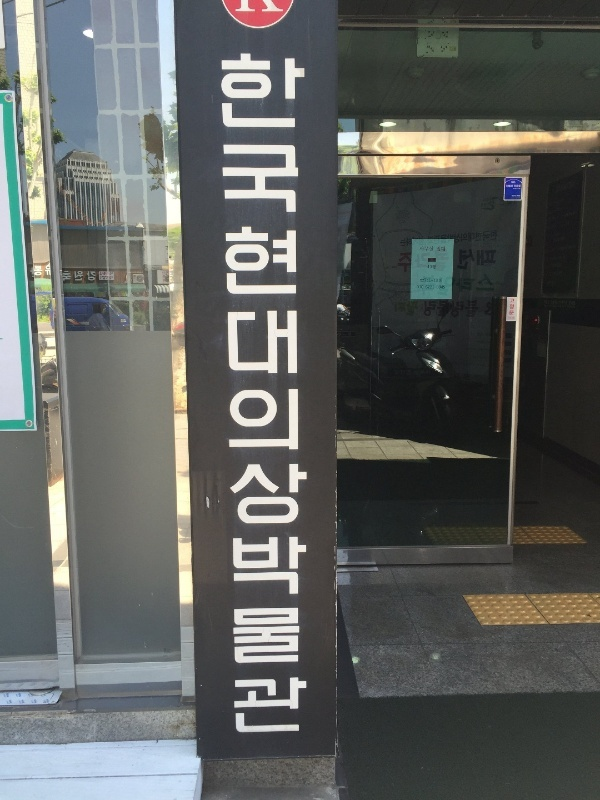text: (225, 49, 240, 744), (241, 49, 256, 744), (257, 49, 272, 744), (273, 49, 288, 744), (289, 49, 304, 744), (219, 49, 224, 744), (305, 49, 309, 744), (481, 248, 497, 272), (465, 248, 480, 272), (433, 299, 449, 318), (465, 273, 480, 293), (401, 251, 414, 274), (401, 299, 416, 318), (417, 299, 432, 318), (401, 229, 416, 248), (417, 229, 432, 248), (433, 229, 448, 248), (449, 229, 464, 248), (465, 229, 480, 248), (481, 229, 496, 248), (481, 273, 495, 293), (465, 298, 479, 318), (33, 262, 48, 279), (453, 298, 464, 318), (81, 271, 97, 283), (65, 271, 80, 283), (458, 248, 464, 272), (457, 273, 464, 293), (513, 184, 521, 200), (394, 299, 400, 318), (506, 184, 512, 200), (420, 246, 432, 253), (437, 246, 448, 253), (417, 285, 432, 290), (433, 285, 446, 290), (100, 272, 112, 277), (513, 298, 516, 317), (101, 276, 112, 281), (49, 262, 52, 279), (433, 278, 443, 283), (398, 251, 400, 274), (510, 298, 512, 317), (425, 278, 432, 283), (62, 271, 64, 283), (428, 265, 432, 270), (433, 265, 437, 270), (497, 229, 498, 248), (31, 262, 32, 279), (433, 246, 434, 253), (113, 272, 114, 277), (113, 276, 114, 281)
